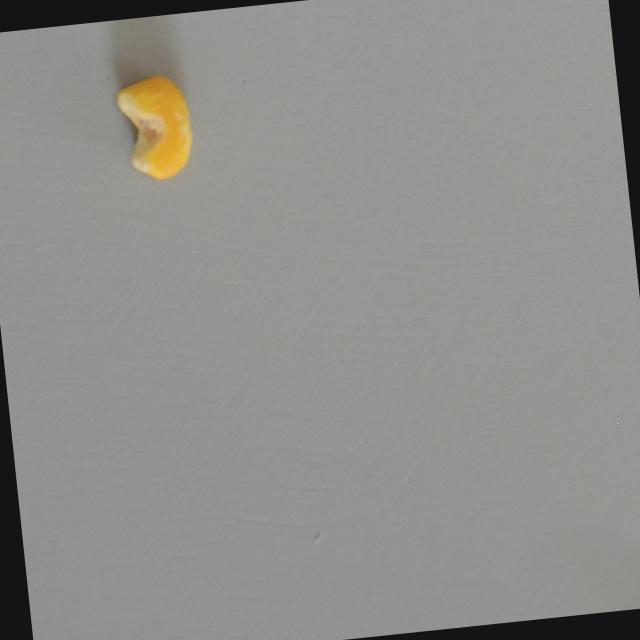dañado: (94, 60, 214, 184)
